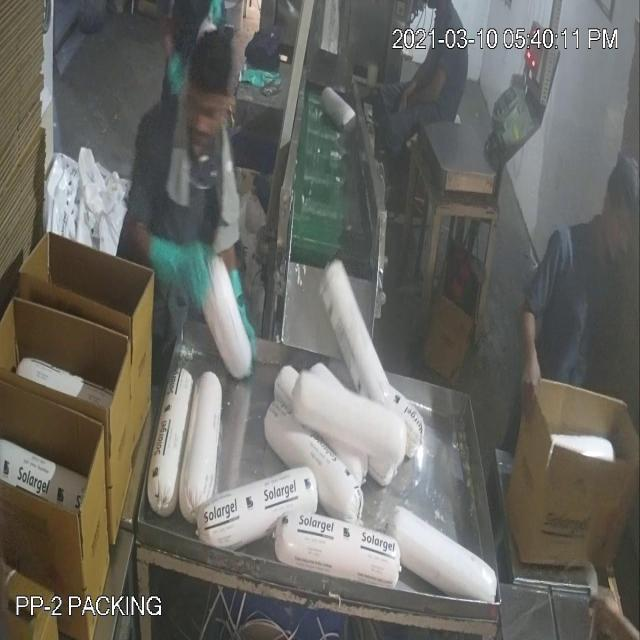gloves: (143, 226, 217, 300)
no-gloves: (514, 289, 548, 426), (397, 54, 458, 120)
